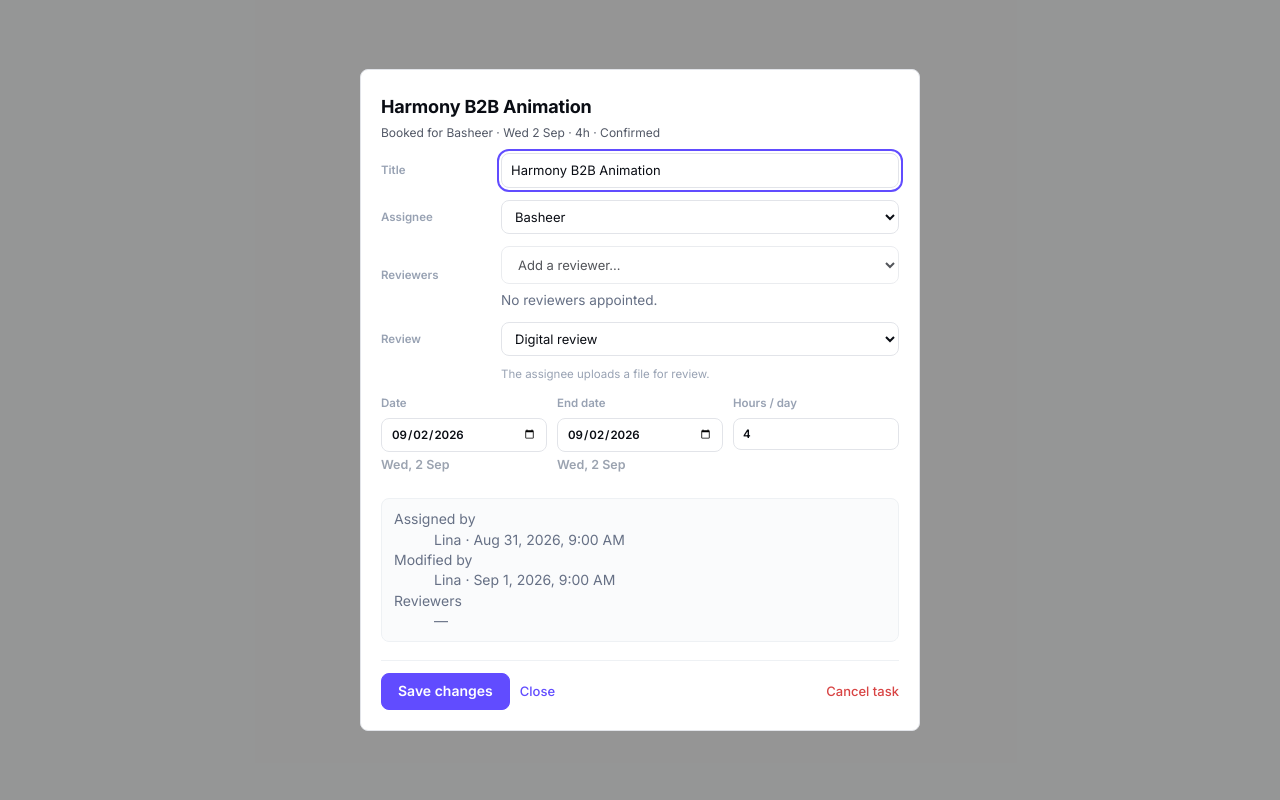
Scenario: EditBookingDialog — cancelling asks first (ADR-0068) › does NOT cancel on the click — the defect Edward reported
Click the button with test id "edit-cancel-task": point(863, 692) 826,684 -> 899,700
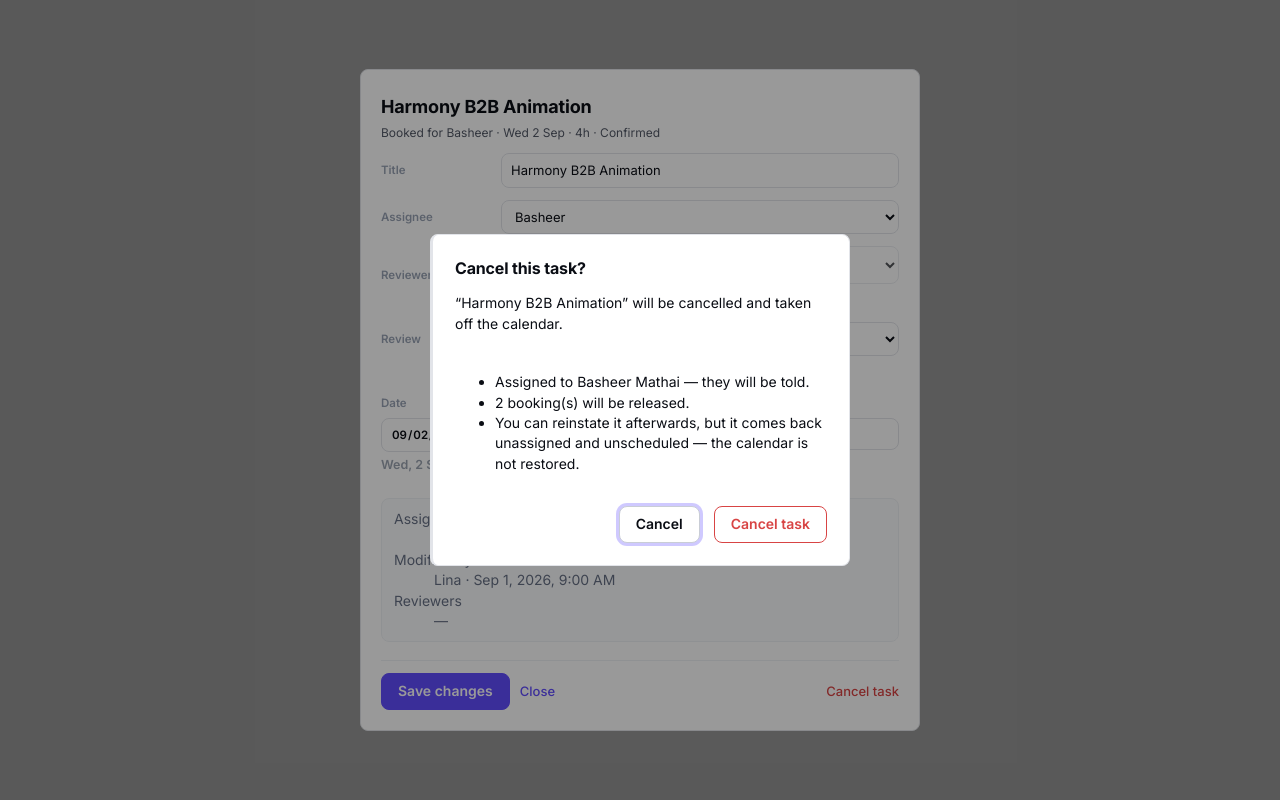
Expected: the dialog with test id "edit-cancel-confirm-dialog" is shown, 430,234 -> 850,566
